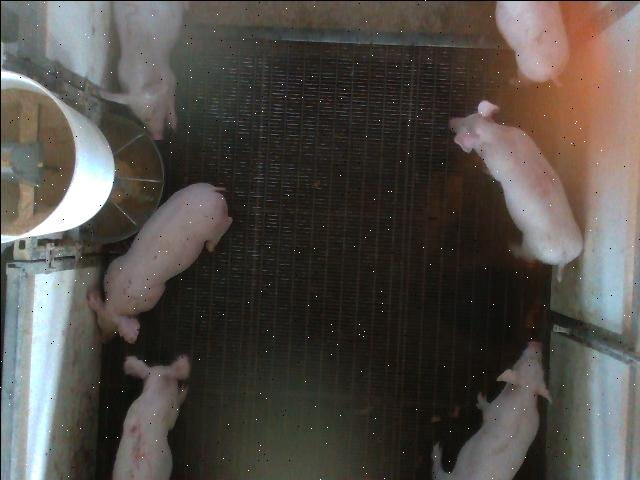pig-4: (449, 99, 582, 280)
pig-5: (111, 355, 189, 480)
